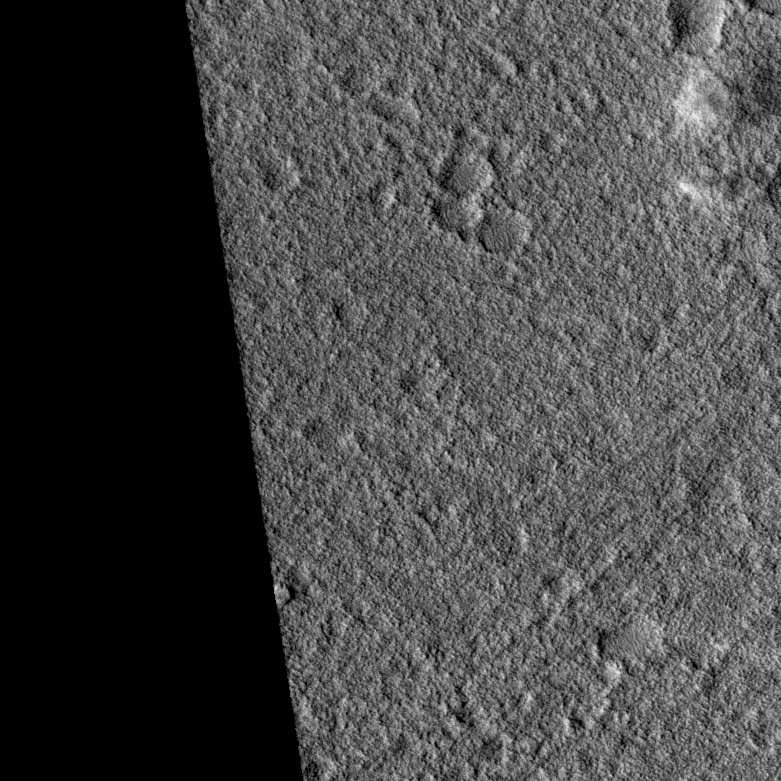dust_devil: (668, 57, 781, 137), (675, 163, 771, 213)
